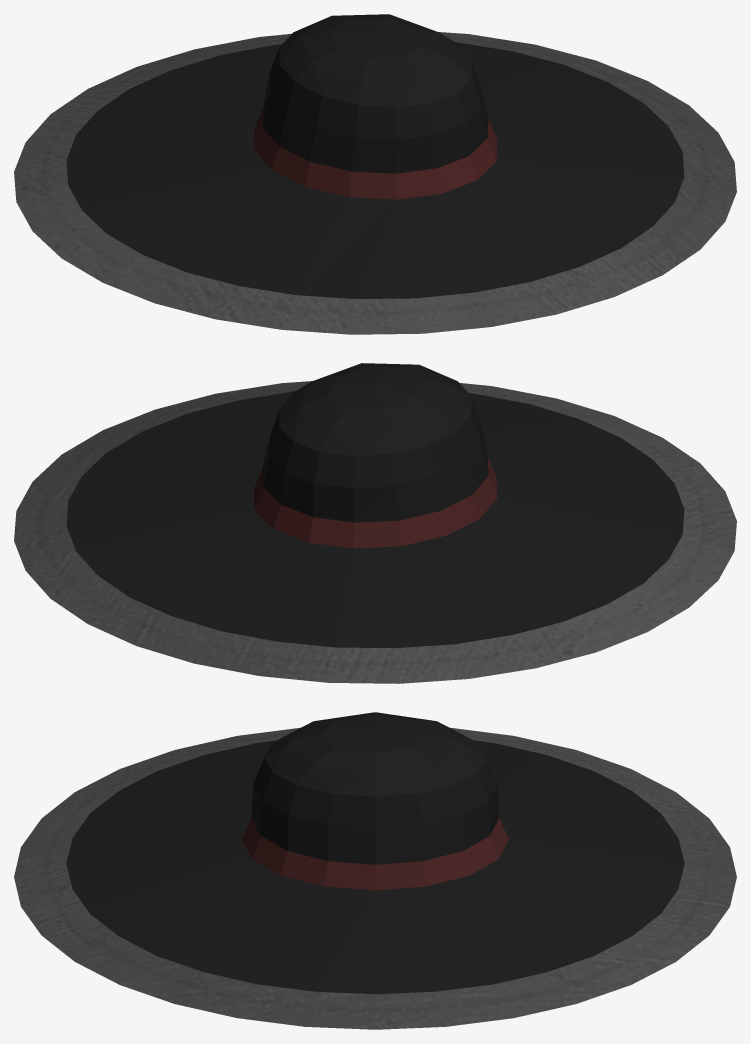
Rendered from KRN_KL_Hat_St.obj.
The picture shows the model from 3 angles, top to bottom: view 1: azimuth 30°, elevation 25°; view 2: azimuth 150°, elevation 25°; view 3: azimuth 270°, elevation 25°; orthographic projection.
Visible parts, largest first — view 1: KRN_KL_Hat_St; view 2: KRN_KL_Hat_St; view 3: KRN_KL_Hat_St.
Boxes of the visible parts, x1,y1,x2,y2 form: KRN_KL_Hat_St: [14, 14, 736, 334]; KRN_KL_Hat_St: [14, 363, 736, 683]; KRN_KL_Hat_St: [14, 712, 736, 1029].
Size of the model in its own units: 60.05 by 13.74 by 60.05.
Materials: 1 (1 with a texture image).
